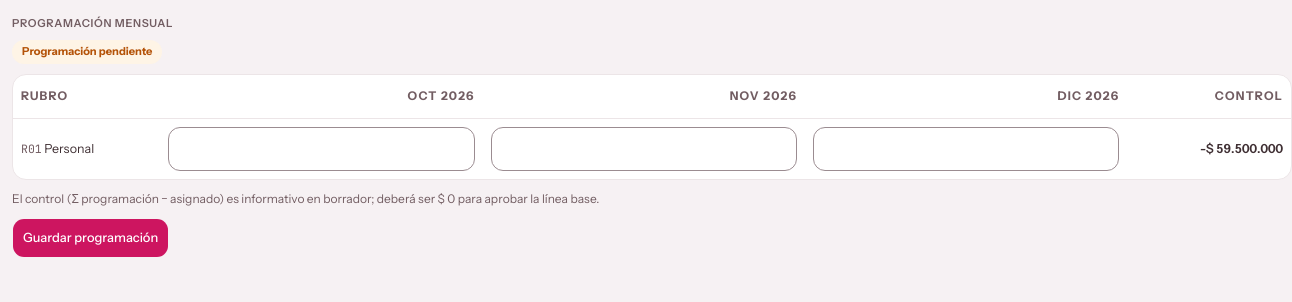
Test: PresupuestoProgramacion › typing 1.500,505 shows 1.500,505 after blur and submits null
In the field named "Programado R01 nov 2026": (644, 149) [491,127,797,171], type "1.500,505"
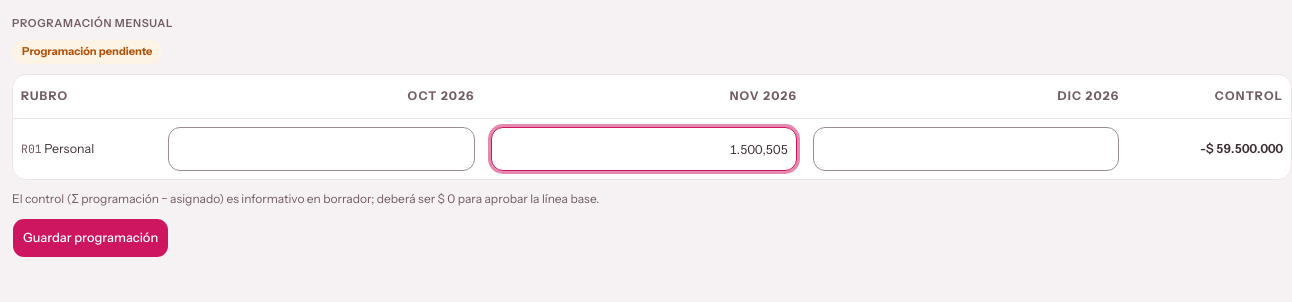
Press Tab
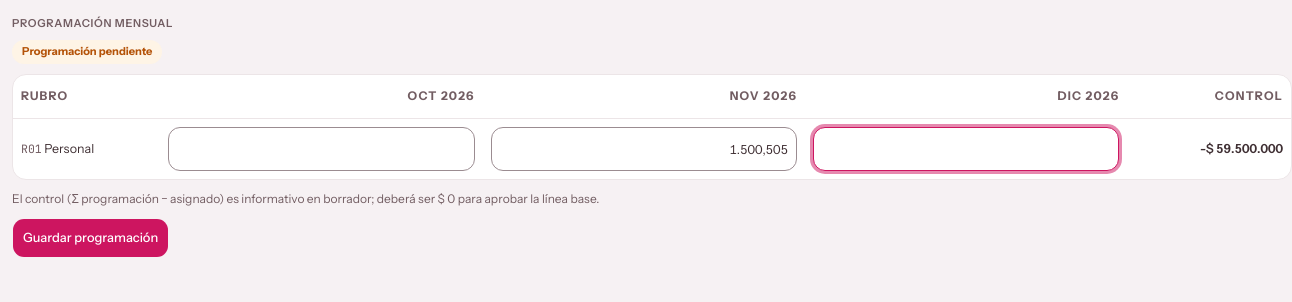
Click the button "Guardar programación": (91, 238) [12,218,169,258]
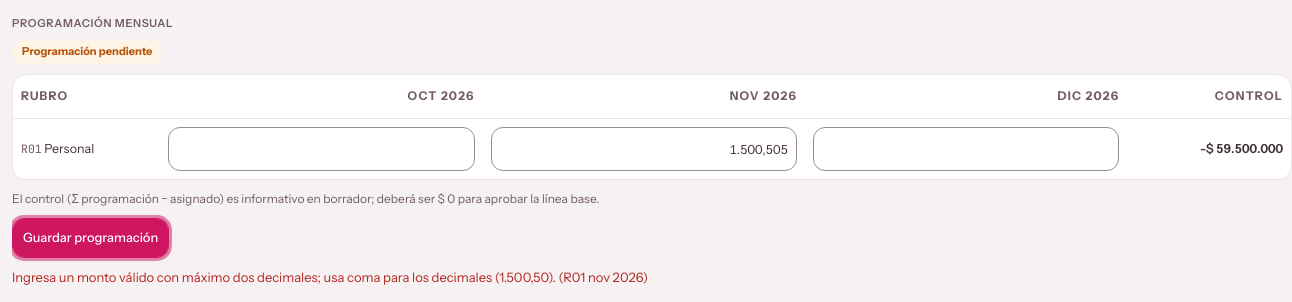
Now the message shows "Ingresa un monto válido", box [12,269,648,285]
